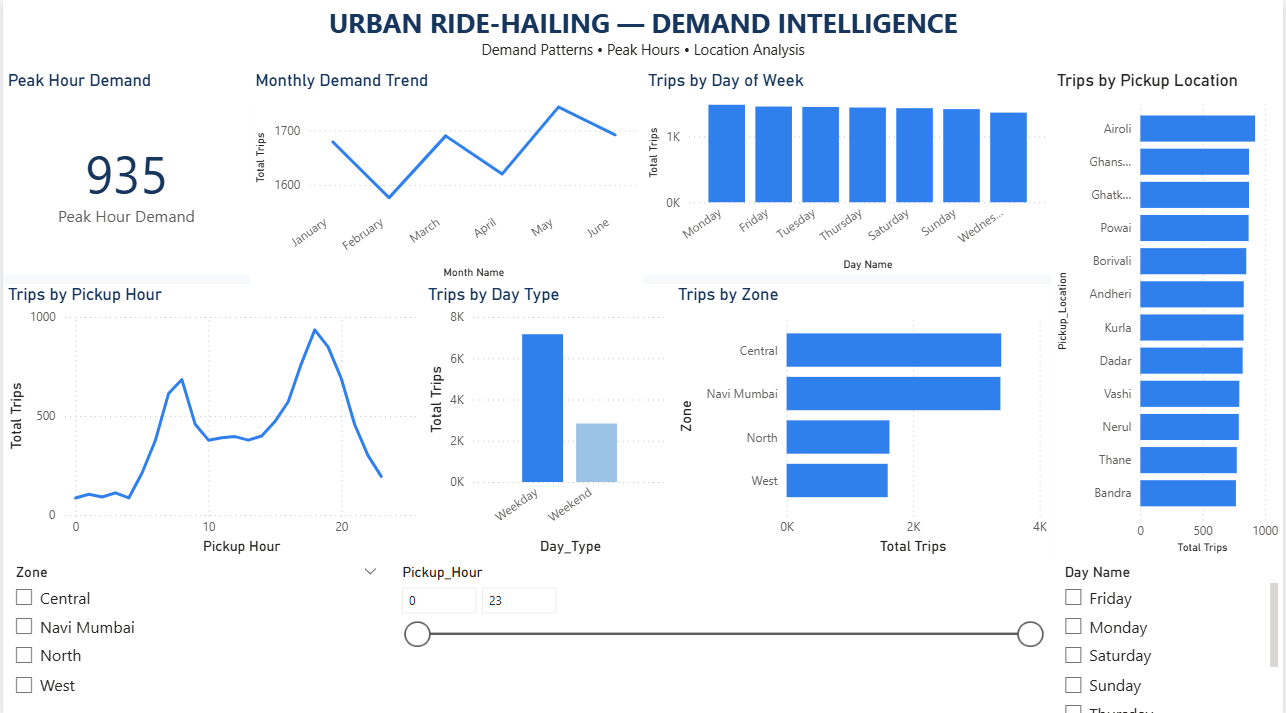

What the dashboard file says about the page in this screenshot:
{"tool":"powerbi","page":{"name":"Demand Intelligence","canvas":[1280,720],"ordinal":1},"visuals":[{"type":"textbox","box":[0,0,1280.3,74.6],"z":0},{"type":"card","title":"Peak Hour Demand","fields":{"Values":["FactTrips.Peak Hour Demand"]},"box":[0,71.2,247.5,205],"z":1000},{"type":"lineChart","title":"Trips by Pickup Hour","fields":{"Category":["FactTrips.Pickup_Hour"],"Y":["FactTrips.Total Trips"]},"box":[0,285,420,275],"z":2000},{"type":"clusteredColumnChart","title":"Trips by Day of Week","fields":{"Category":["DimDate.Day Name"],"Y":["FactTrips.Total Trips"]},"box":[640,71.2,408.8,205],"z":3000},{"type":"clusteredBarChart","title":"Trips by Pickup Location","fields":{"Category":["FactTrips.Pickup_Location"],"Y":["FactTrips.Total Trips"]},"box":[1048.8,71.2,231.2,488.8],"z":4000},{"type":"lineChart","title":"Monthly Demand Trend","fields":{"Category":["DimDate.Month Name"],"Y":["FactTrips.Total Trips"]},"box":[247.5,71.2,392.5,213.8],"z":5000},{"type":"clusteredColumnChart","title":"Trips by Day Type","fields":{"Category":["FactTrips.Day_Type"],"Y":["FactTrips.Total Trips"]},"box":[420,285,250,275],"z":6000},{"type":"clusteredBarChart","title":"Trips by Zone","fields":{"Category":["DimLocation.Zone"],"Y":["FactTrips.Total Trips"]},"box":[670,285,378.8,275],"z":7000},{"type":"slicer","fields":{"Values":["FactTrips.Pickup_Hour"]},"box":[386.2,560,662.5,160],"z":8000},{"type":"slicer","fields":{"Values":["DimLocation.Zone"]},"box":[0,560,386.2,160],"z":9000},{"type":"slicer","fields":{"Values":["DimDate.Day Name"]},"box":[1048.8,560,231.2,160],"z":10000}]}

Visuals, with their boxes in screenshot pixels (x1, y1, x2, y2), scaled from the page's 1280x720 canvas onto the 1286x713 screenshot:
textbox: (0, 0, 1285, 74)
"Peak Hour Demand" card: (0, 71, 249, 274)
"Trips by Pickup Hour" lineChart: (0, 282, 422, 555)
"Trips by Day of Week" clusteredColumnChart: (643, 71, 1054, 274)
"Trips by Pickup Location" clusteredBarChart: (1054, 71, 1285, 555)
"Monthly Demand Trend" lineChart: (249, 71, 643, 282)
"Trips by Day Type" clusteredColumnChart: (422, 282, 673, 555)
"Trips by Zone" clusteredBarChart: (673, 282, 1054, 555)
slicer - FactTrips.Pickup_Hour: (388, 555, 1054, 712)
slicer - DimLocation.Zone: (0, 555, 388, 712)
slicer - DimDate.Day Name: (1054, 555, 1285, 712)
